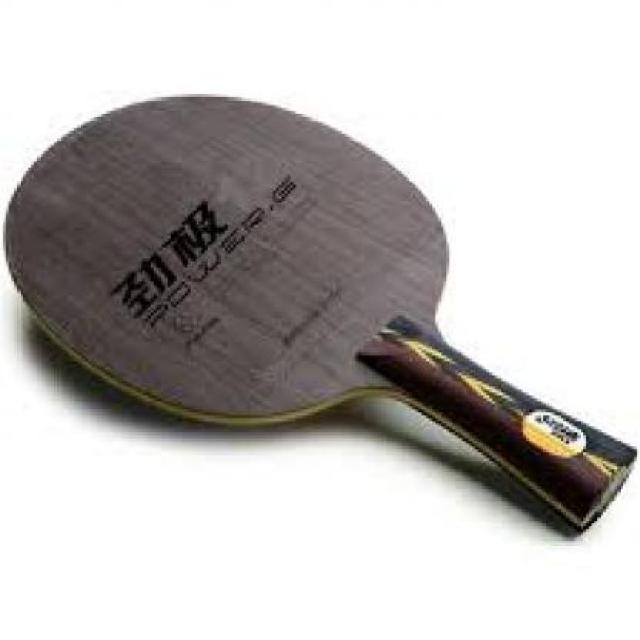table_tennis_racket: (0, 90, 457, 428)
